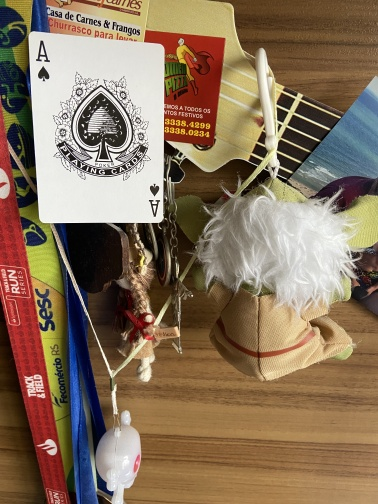ace: (27, 30, 166, 224)
